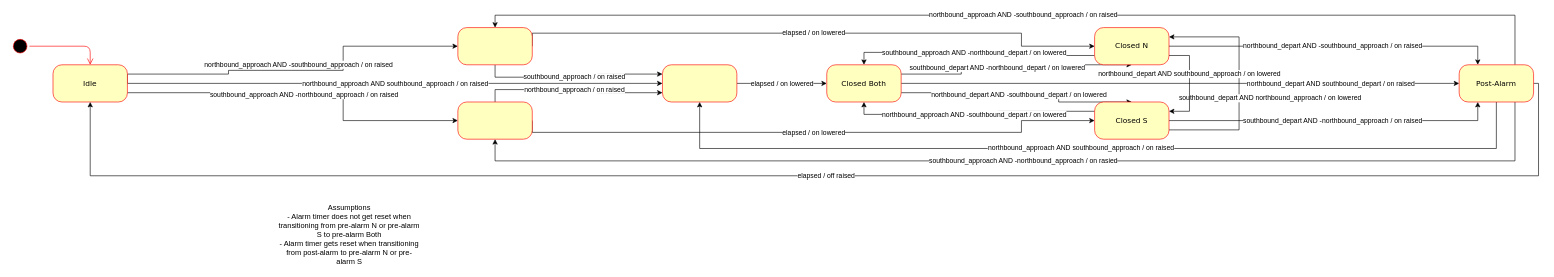
The diagram is 1554 pixels wide and 277 high, and some of its shapes have lost their labels. The centre of each missing label's shape, as x and y in pixels:
"Pre-Alarm Both" belongs at pixel 699 83.
"Pre-Alarm N" belongs at pixel 494 46.
"Pre-Alarm S" belongs at pixel 494 120.
